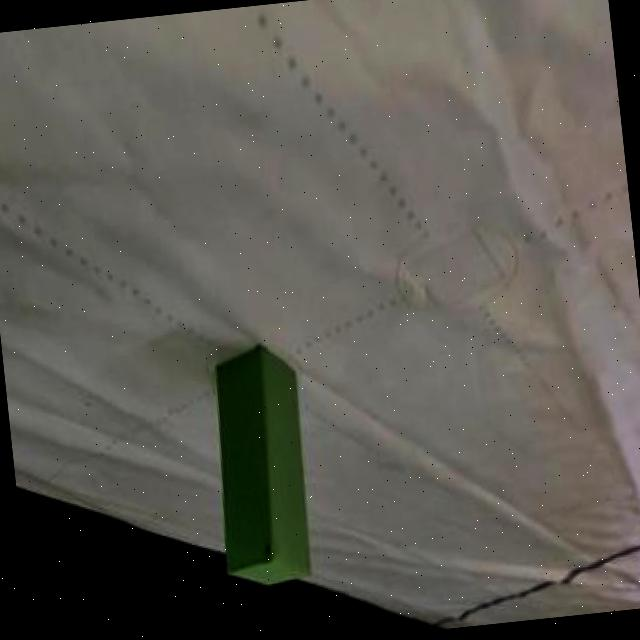greenbox: (204, 338, 317, 592)
